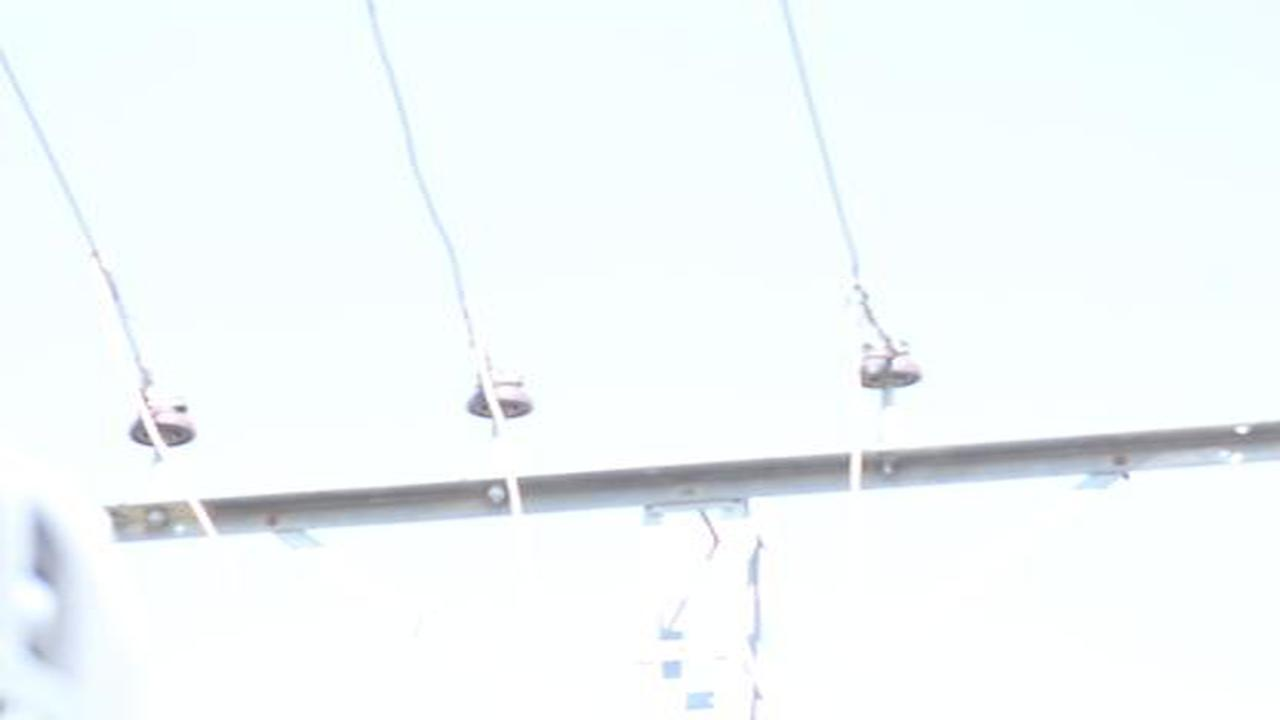insulator_pin: (127, 390, 198, 448), (851, 337, 924, 393), (463, 364, 535, 420)
